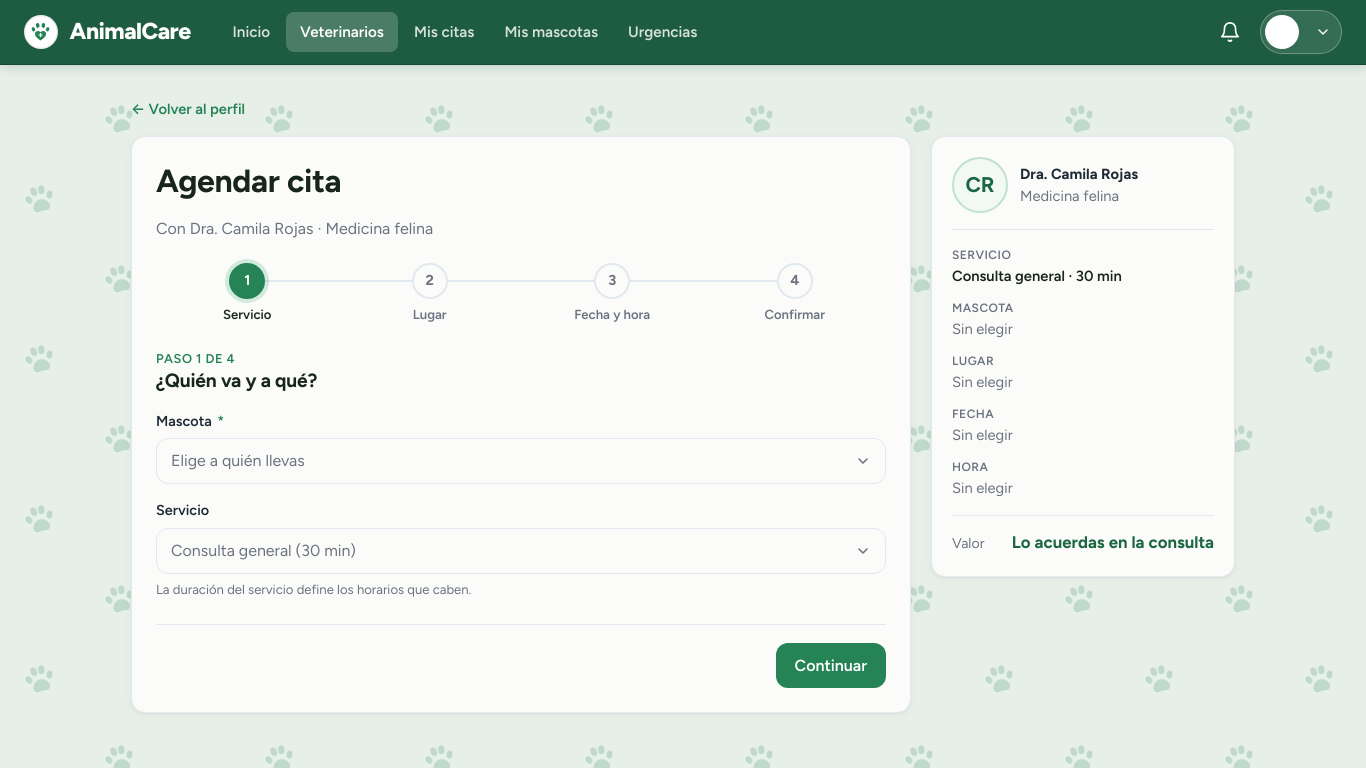
AgendarCita por pasos › en el paso de lugar pide la direccion si la atencion es a domicilio
Click the dropdown named "Mascota" at [238, 461], box [156, 438, 886, 484]
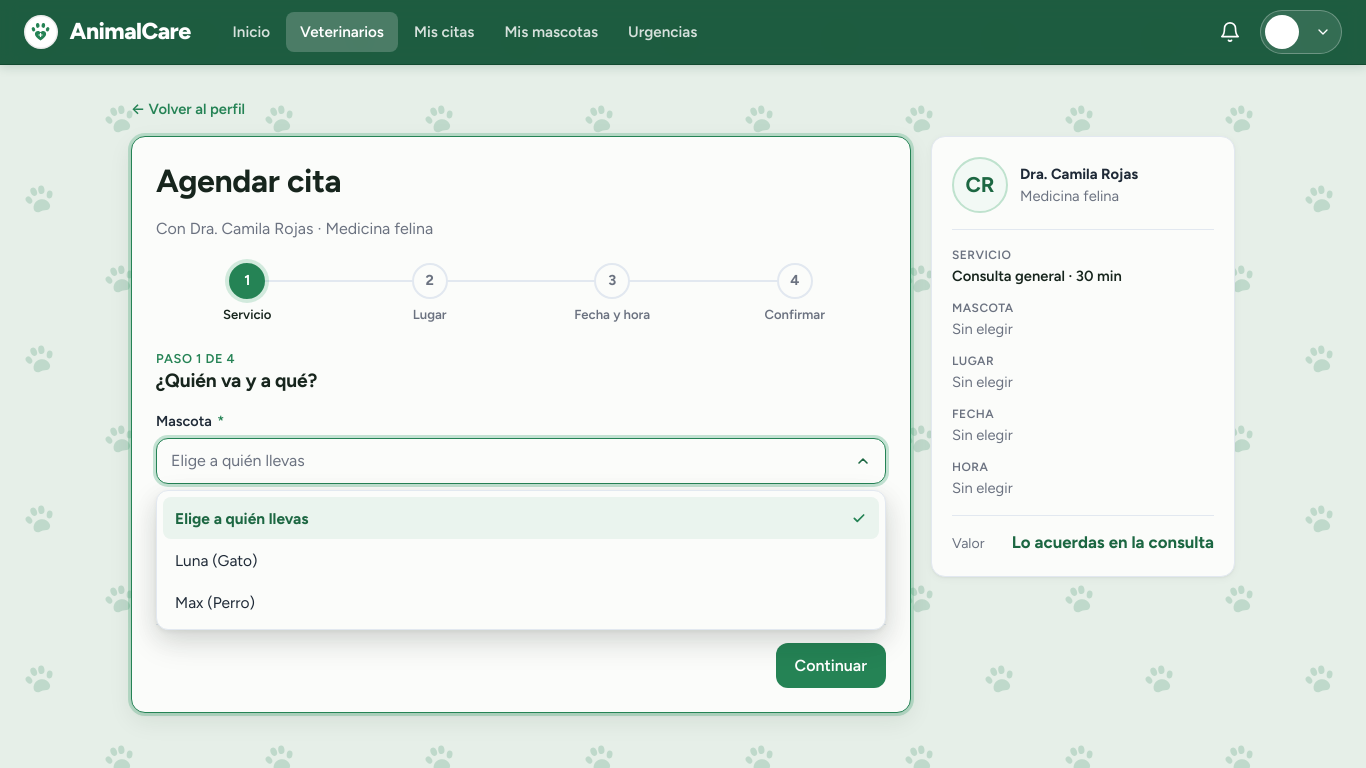
Click the option "Luna (Gato)" at [216, 560], box [175, 551, 258, 570]
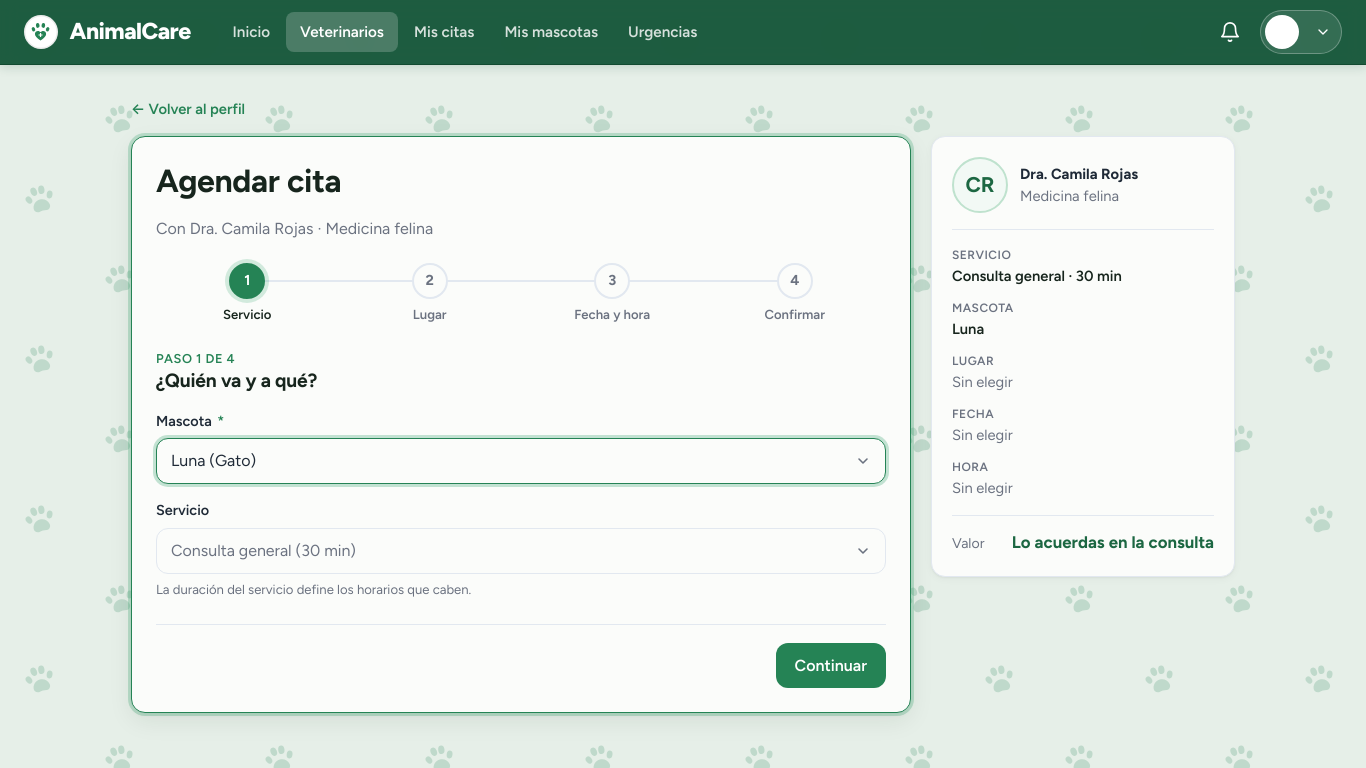
Click the button "Continuar" at [831, 665], box [776, 643, 886, 688]
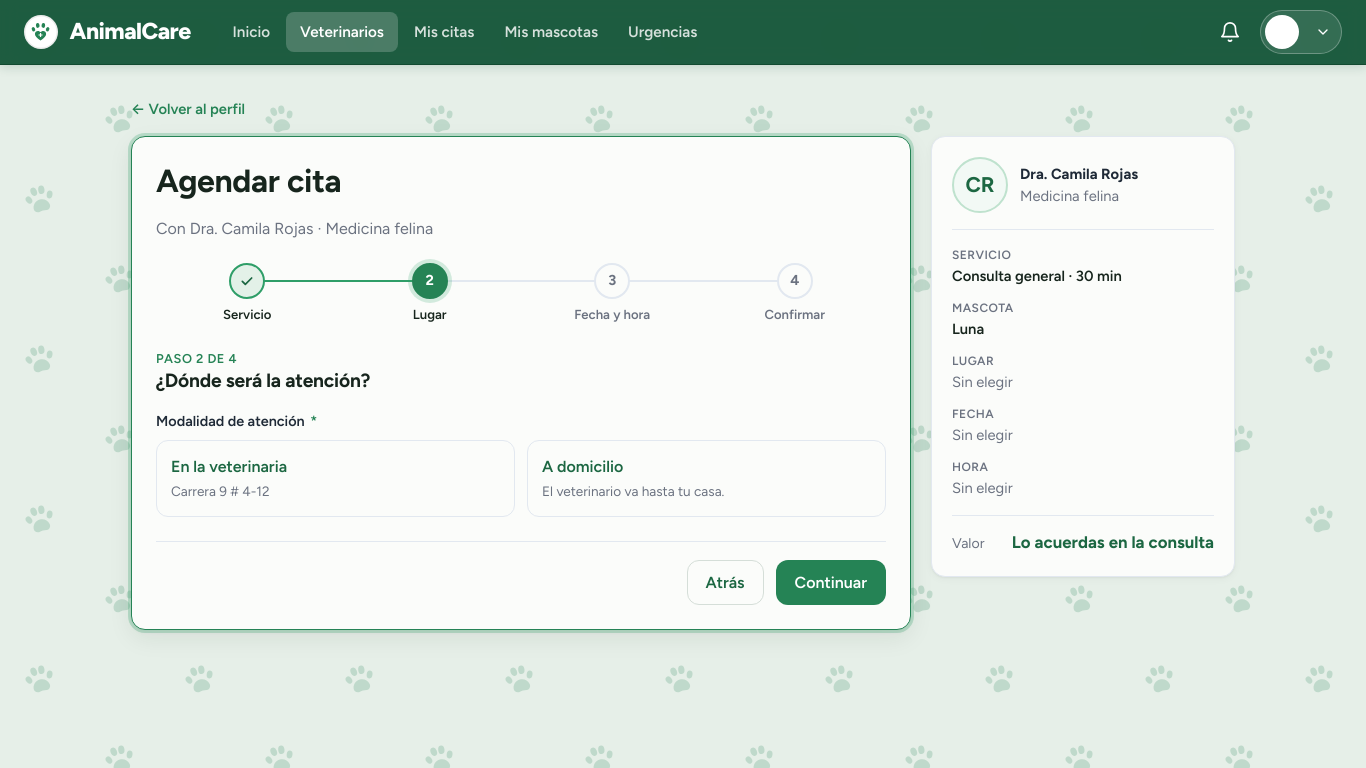
Click the radio button labelled "A domicilio El veterinario va hasta tu casa." at [583, 467], box [527, 440, 886, 517]
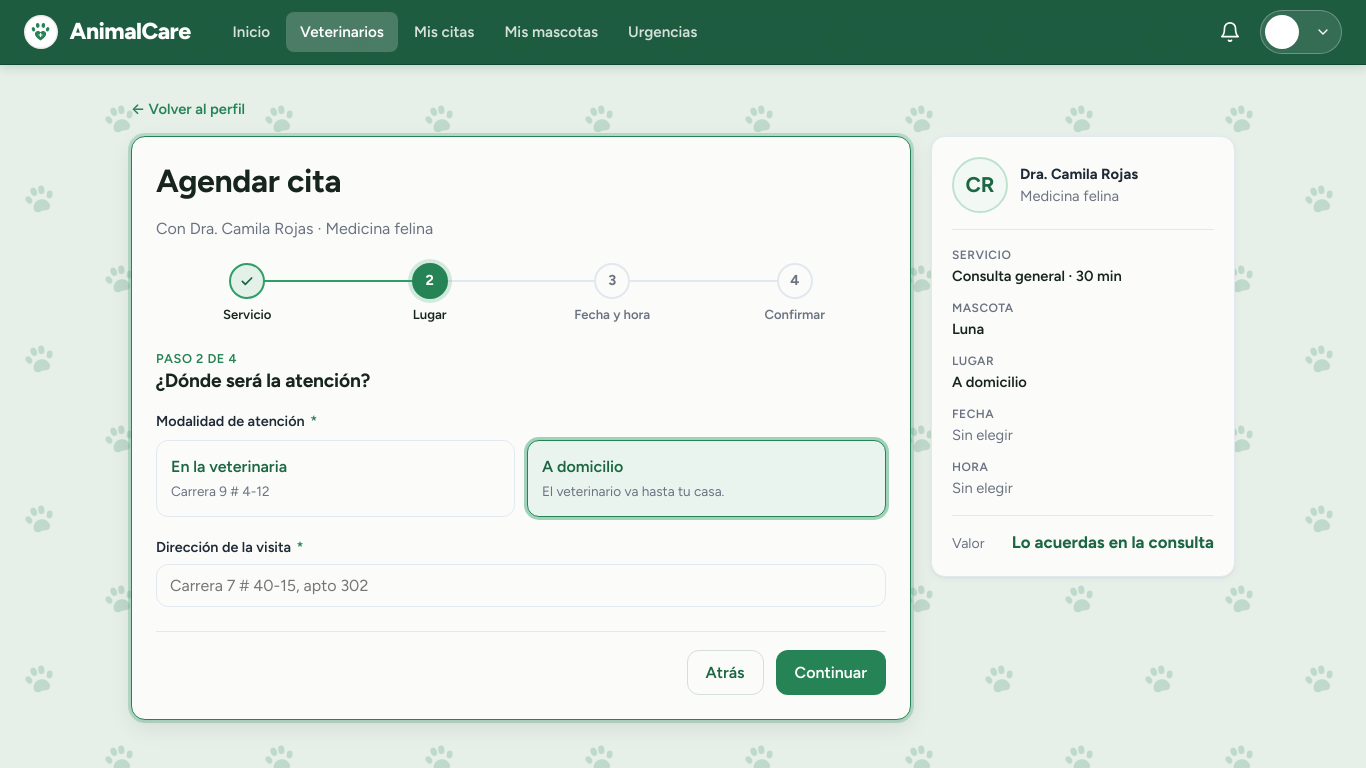
Click the button "Continuar" at [831, 673], box [776, 650, 886, 695]
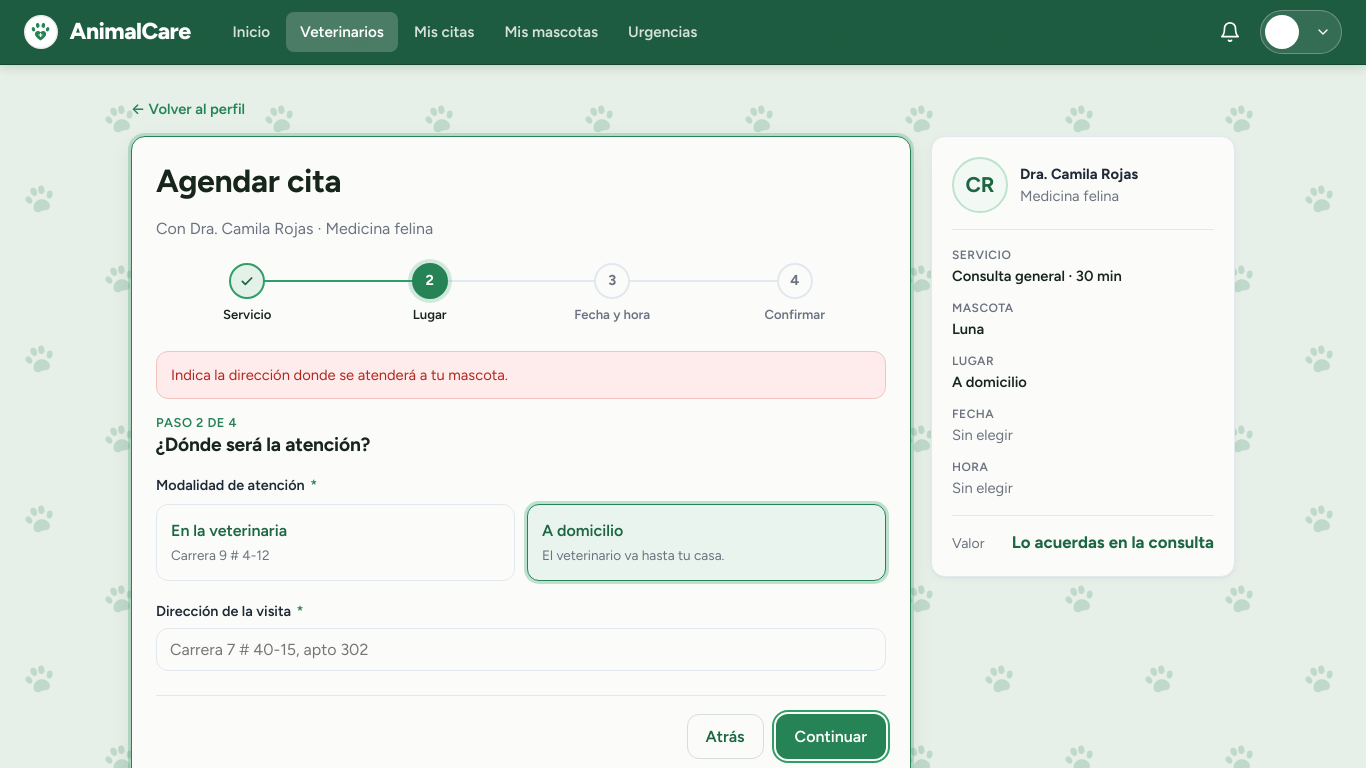
Expected: the text "Paso 2 de 4" is shown, [156, 415, 237, 430]
Expected: the text "Indica la dirección donde se atenderá a tu mascota." is shown, [171, 366, 508, 384]
